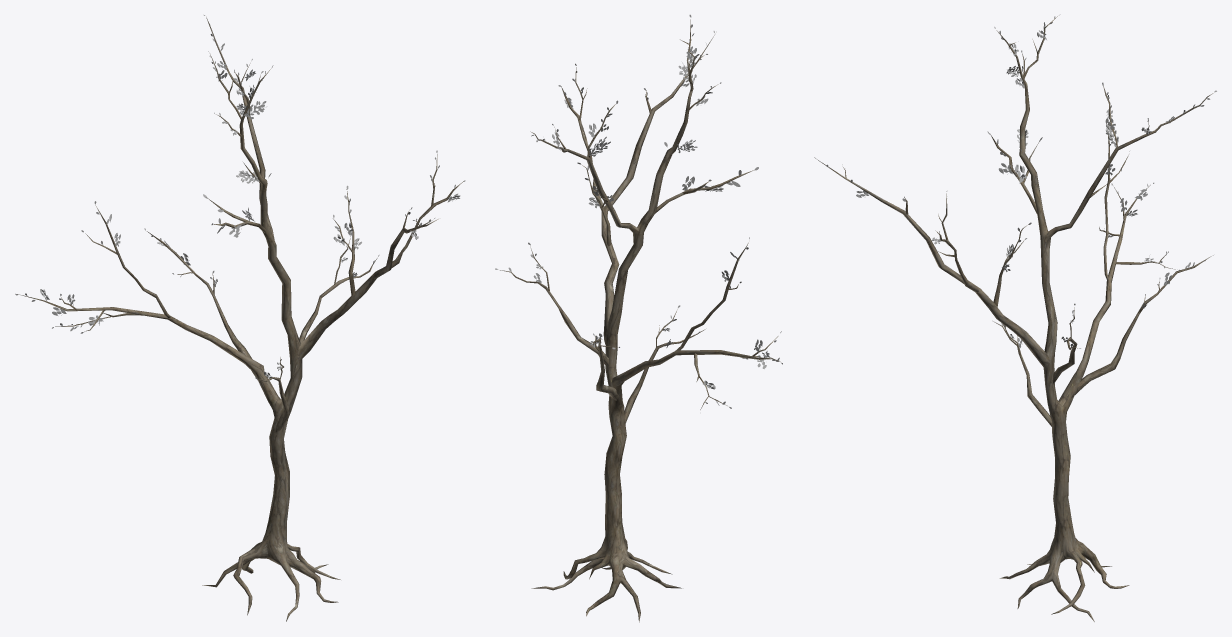
The model's file is SM_Com_Tre_11AL.fbx.
3 renders of one model, left to right at view 1: azimuth 30°, elevation 25°; view 2: azimuth 150°, elevation 25°; view 3: azimuth 270°, elevation 25°, orthographic. The views are drawn at different scales.
Parts seen in each view (by area): view 1: SM_Com_Tre_11AL.mo; view 2: SM_Com_Tre_11AL.mo; view 3: SM_Com_Tre_11AL.mo.
Part boxes in pixels (x1=…): SM_Com_Tre_11AL.mo: x1=15, y1=15, x2=465, y2=621; SM_Com_Tre_11AL.mo: x1=495, y1=14, x2=782, y2=622; SM_Com_Tre_11AL.mo: x1=814, y1=14, x2=1216, y2=621.
Size of the model in its own units: 8.52 by 13.57 by 9.11.
